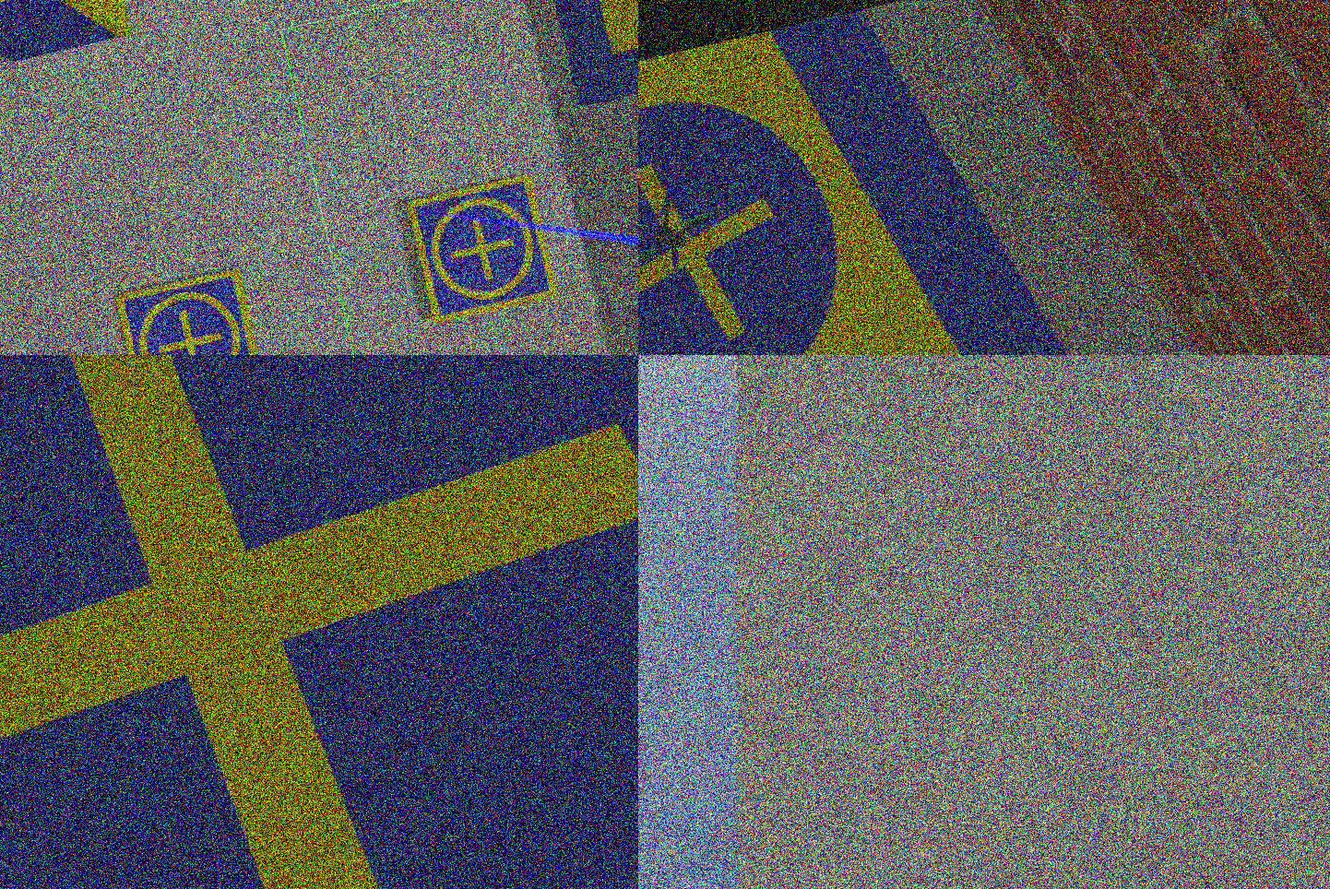large_base: (639, 1, 1160, 356)
small_base: (1, 356, 639, 889), (405, 171, 562, 326), (113, 269, 271, 356)
